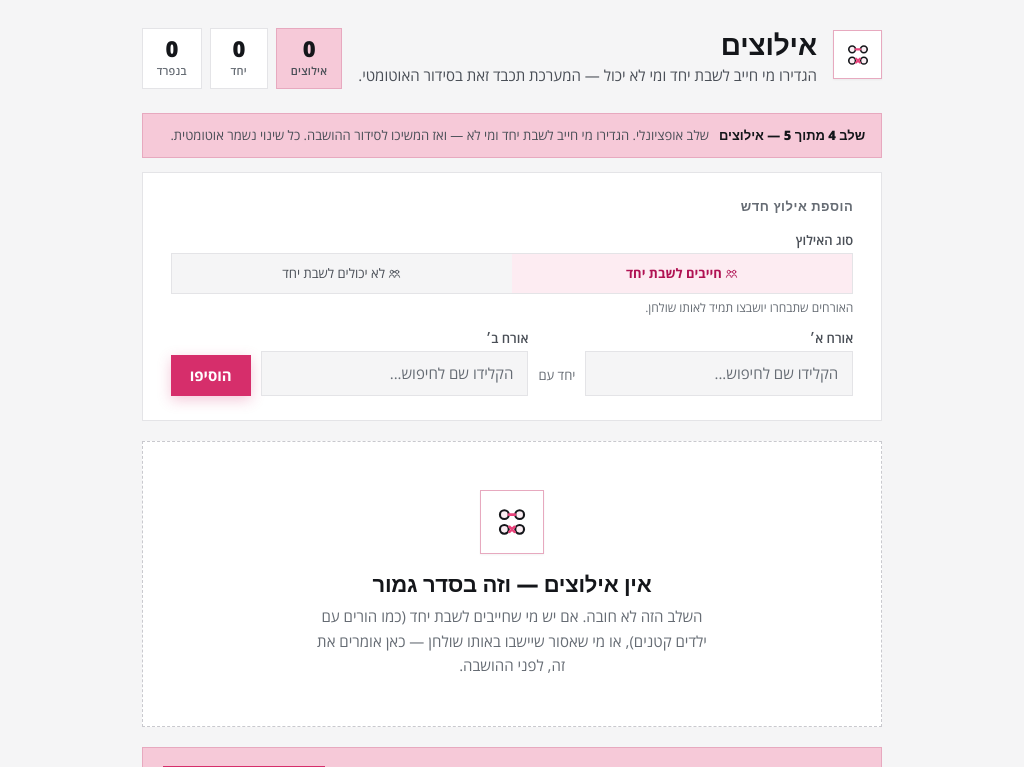
Scenario: ConstraintsScreen guest picker is a combobox (AX3) › status rows are outside the listbox; every child of it is an option
Type "כהן" into the dropdown named "אורח א׳" at (717, 373), box [592,352,842,395]
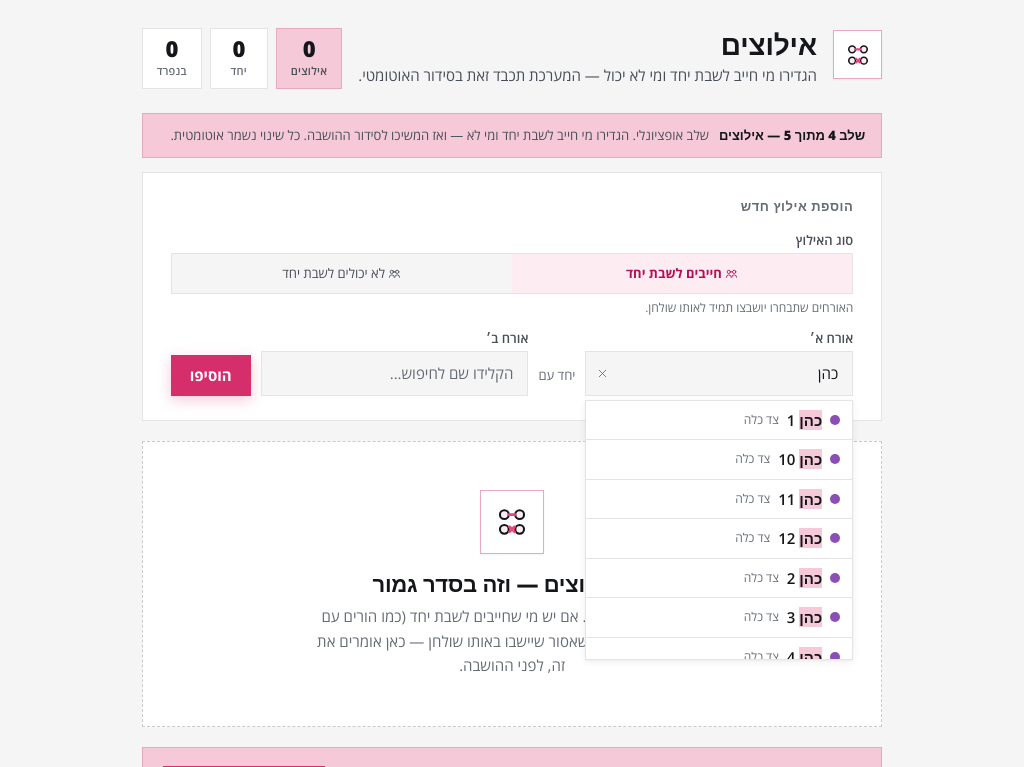
Replace the text in the dropdown named "אורח א׳" with "לוי" at (731, 373), box [620,352,842,395]
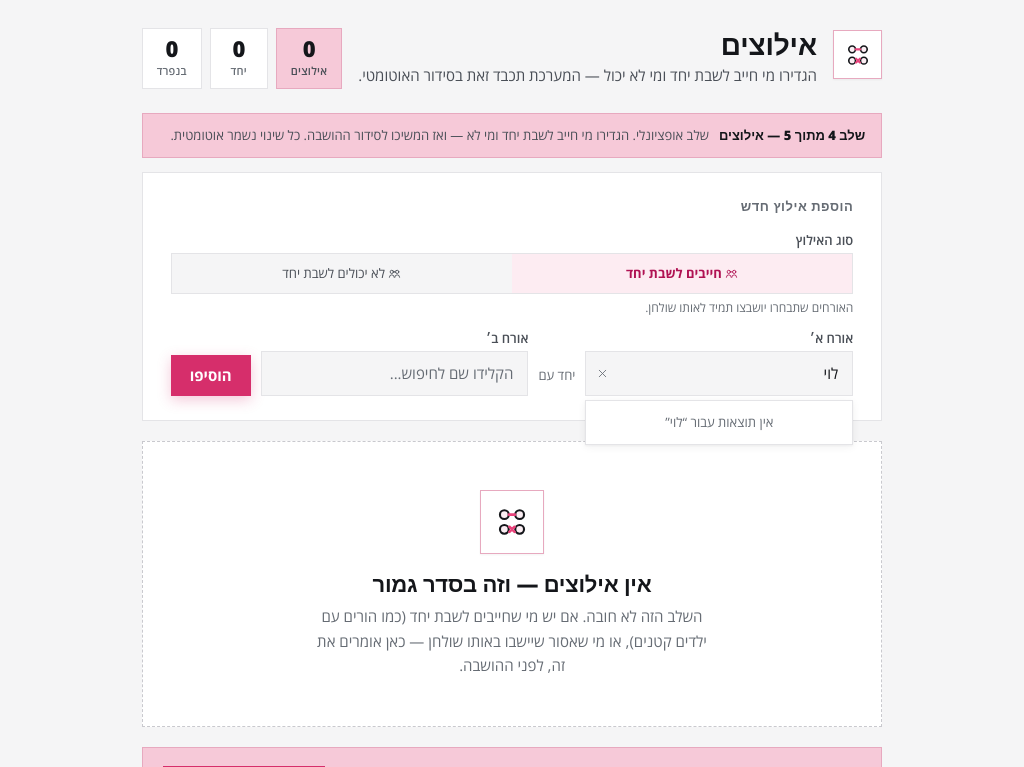
Now no options are shown
Now the dropdown named "אורח א׳" is collapsed, box [620,352,842,395]
